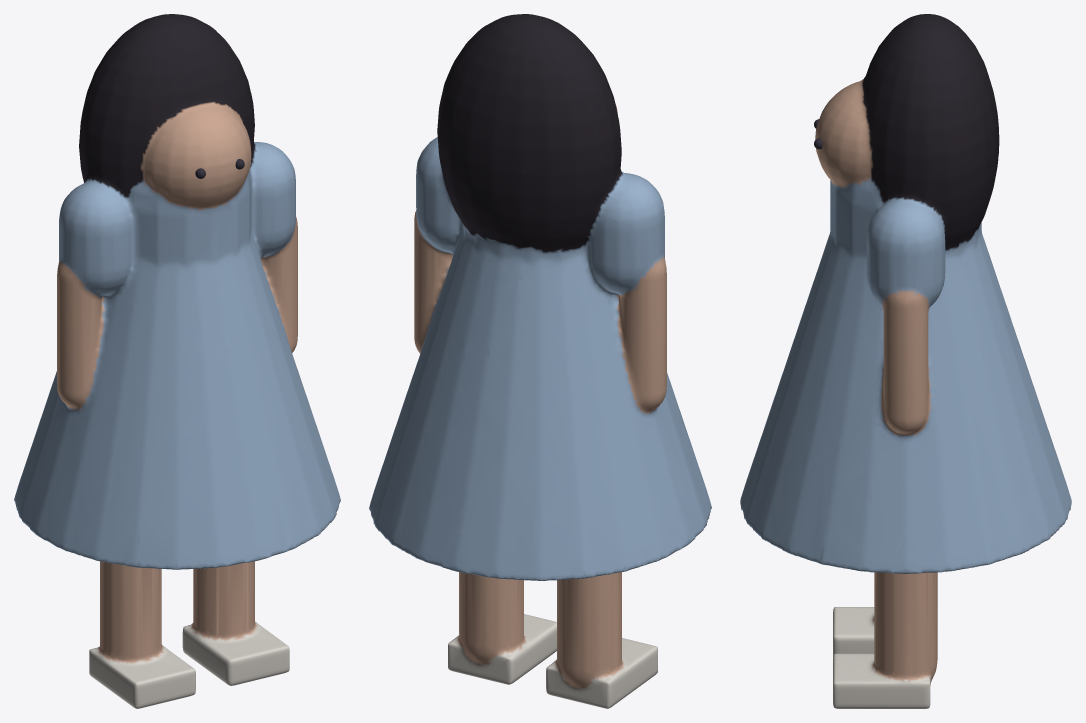
Rendered from mom-com.glb.
3 views of the same model, side by side, from view 1: azimuth 30°, elevation 25°; view 2: azimuth 150°, elevation 25°; view 3: azimuth 270°, elevation 25° (orthographic). The views are drawn at different scales.
Visible parts, largest first — view 1: me-com-body; view 2: me-com-body; view 3: me-com-body.
Part boxes in pixels (x1,y1,x2,y2): me-com-body: (14,14,340,708); me-com-body: (369,14,711,708); me-com-body: (740,14,1071,708).
Bounding box in the file's own units: 1.09 × 2.36 × 1.09.
